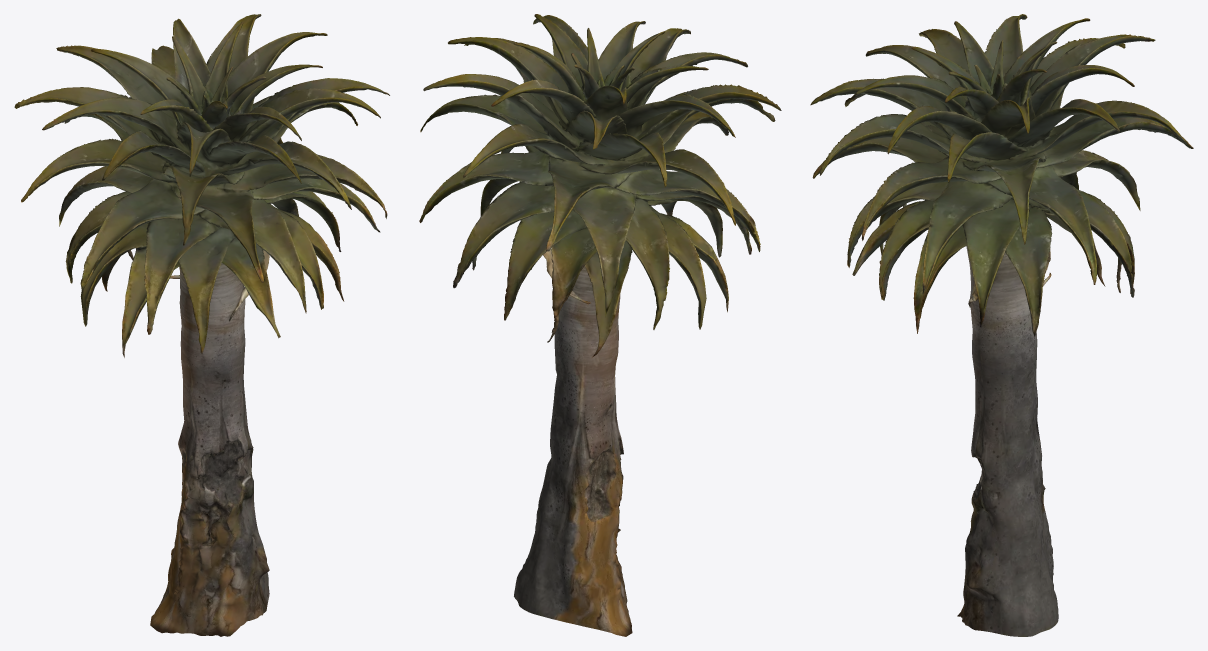
File: quiver_tree_02.glb
3 renders of one model, left to right at view 1: azimuth 30°, elevation 25°; view 2: azimuth 150°, elevation 25°; view 3: azimuth 270°, elevation 25°, orthographic.
Parts seen in each view (by area): view 1: quiver_tree_02; view 2: quiver_tree_02; view 3: quiver_tree_02.
Part boxes in pixels (<box>): quiver_tree_02: <box>14,14,389,636</box>; quiver_tree_02: <box>419,14,781,636</box>; quiver_tree_02: <box>810,14,1193,636</box>.
Bounding box in the file's own units: 0.8717 × 1.47 × 0.8809.
Materials: 1 (1 with a texture image).
